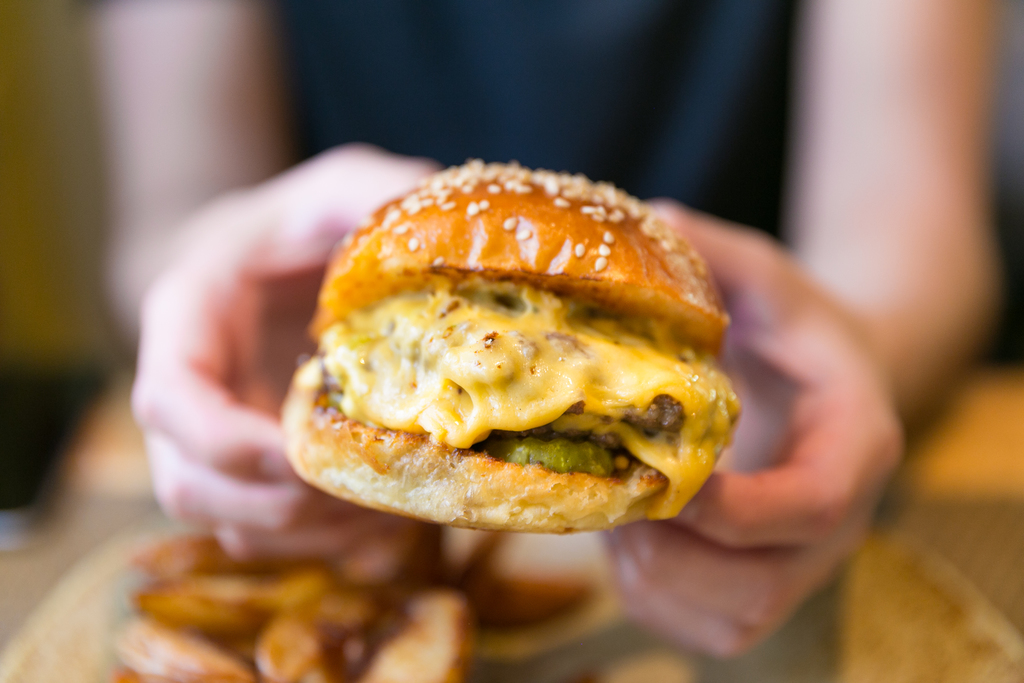Hamburger: (277, 159, 744, 528)
